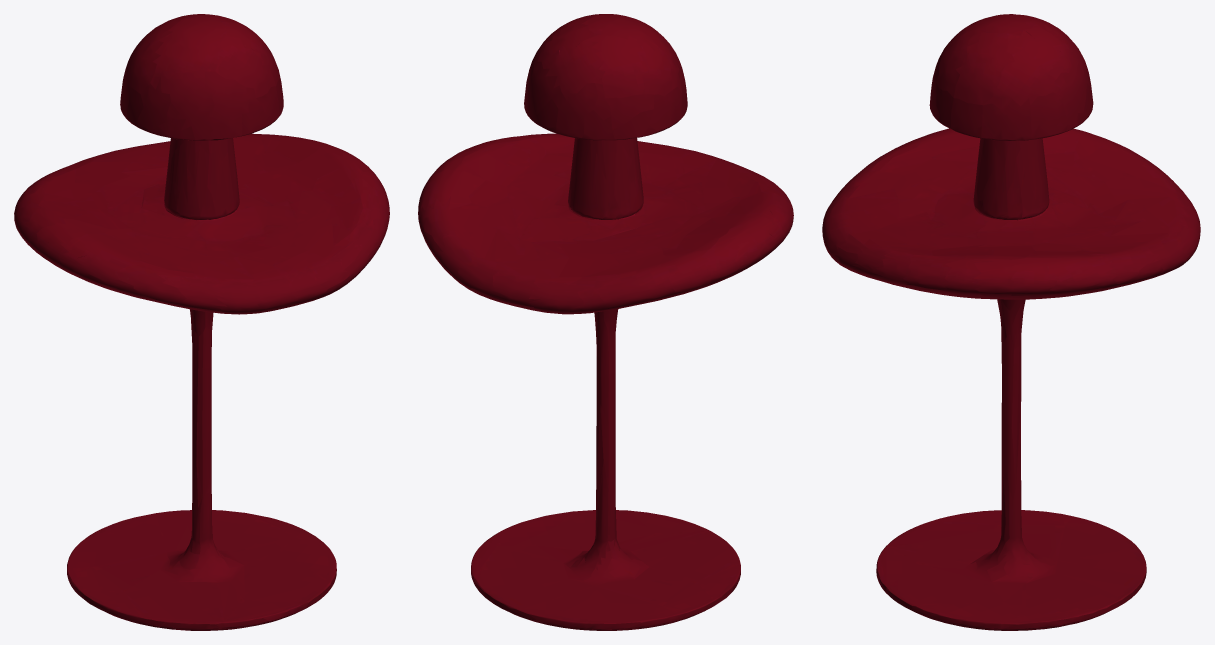
The model's file is side-lamp.glb.
The picture shows the model from 3 angles, left to right: view 1: azimuth 30°, elevation 25°; view 2: azimuth 150°, elevation 25°; view 3: azimuth 270°, elevation 25°; orthographic projection.
Size of the model in its own units: 1.17 by 1.9 by 1.17.
Materials: 1 (1 with a texture image).
